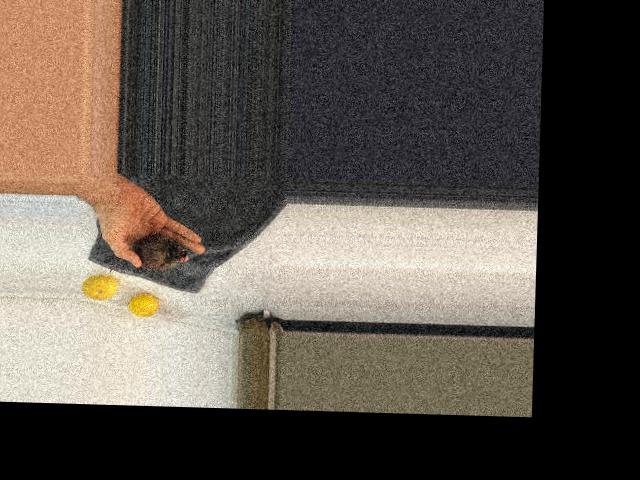beet: (109, 233, 186, 274)
